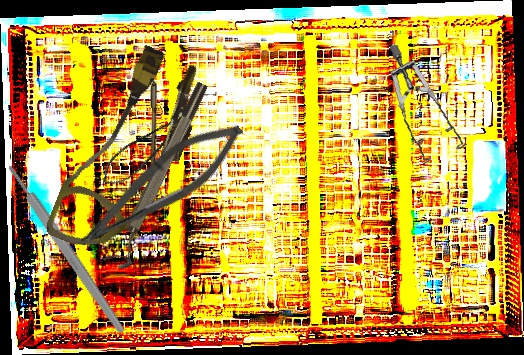Cannula: (43, 35, 215, 270)
Fixation Ring: (102, 79, 220, 273)
Micro Scissor: (70, 104, 254, 268), (93, 102, 211, 192)
Scalpel Handle: (5, 162, 127, 336)
Speculum: (375, 43, 479, 170)
Surgical Spoon: (150, 43, 157, 195)
